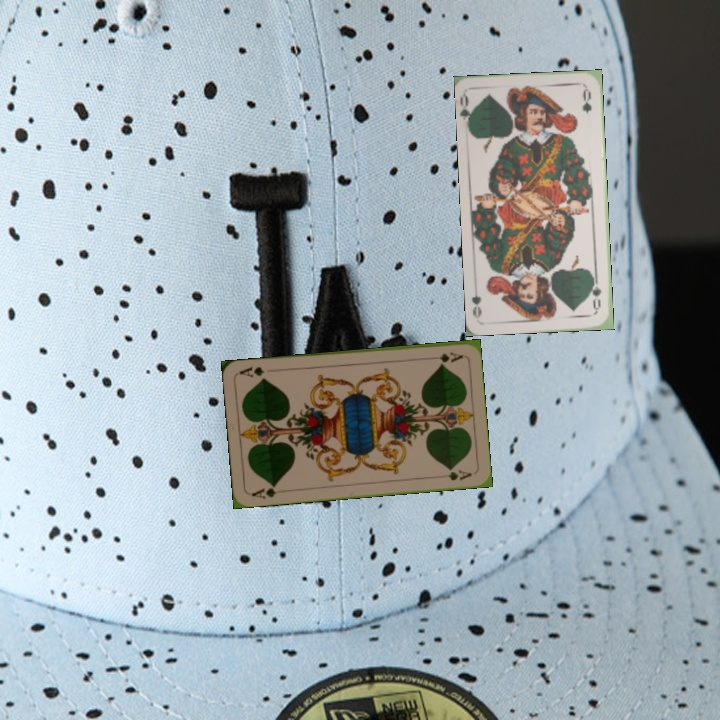GA: (425, 348, 465, 365), (248, 481, 279, 501)
GO: (458, 91, 478, 131), (587, 273, 604, 314)
